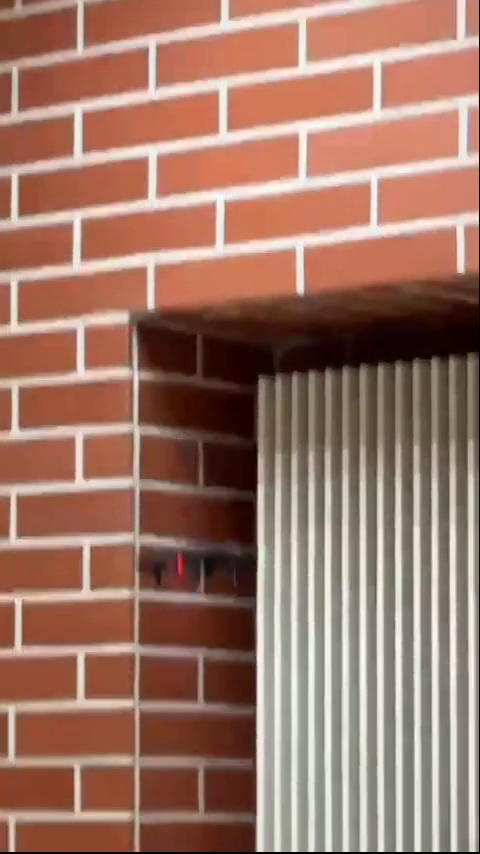drone: (136, 543, 263, 581)
